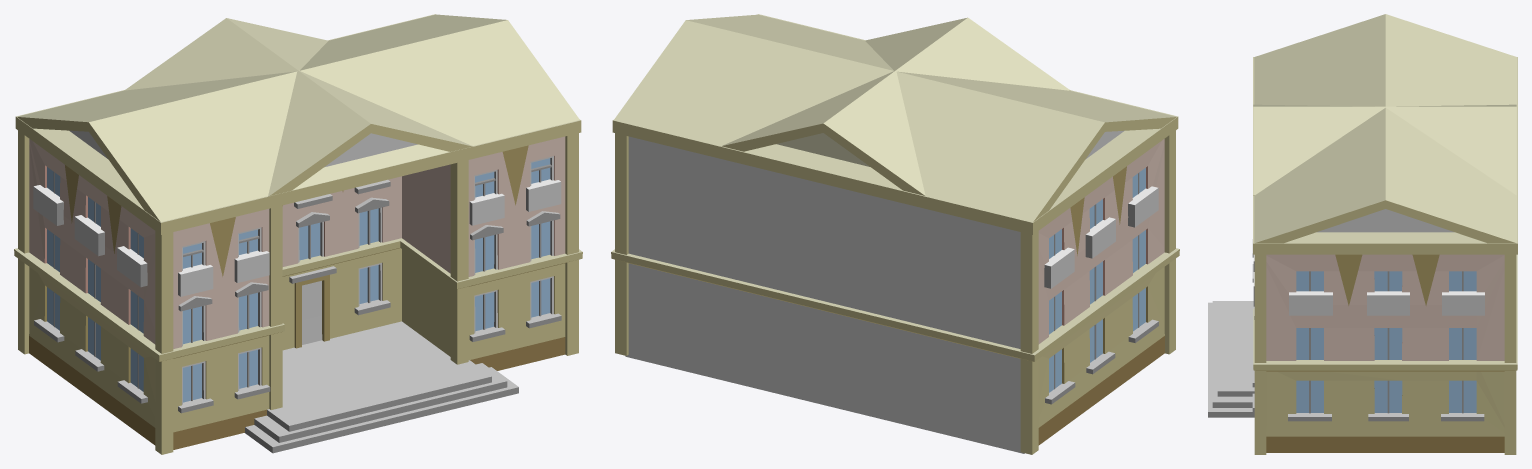
File: house_art_007.glb
3 views of the same model, side by side, from view 1: azimuth 30°, elevation 25°; view 2: azimuth 150°, elevation 25°; view 3: azimuth 270°, elevation 25° (orthographic). The views are drawn at different scales.
Visible parts, largest first — view 1: house_art_007; view 2: house_art_007; view 3: house_art_007.
Part boxes in pixels (x1,y1,x2,y2): house_art_007: [14, 14, 582, 454]; house_art_007: [611, 14, 1179, 454]; house_art_007: [1208, 14, 1517, 454].
Bounding box in the file's own units: 15.29 × 9.78 × 10.63.
Materials: 1 (1 with a texture image).
